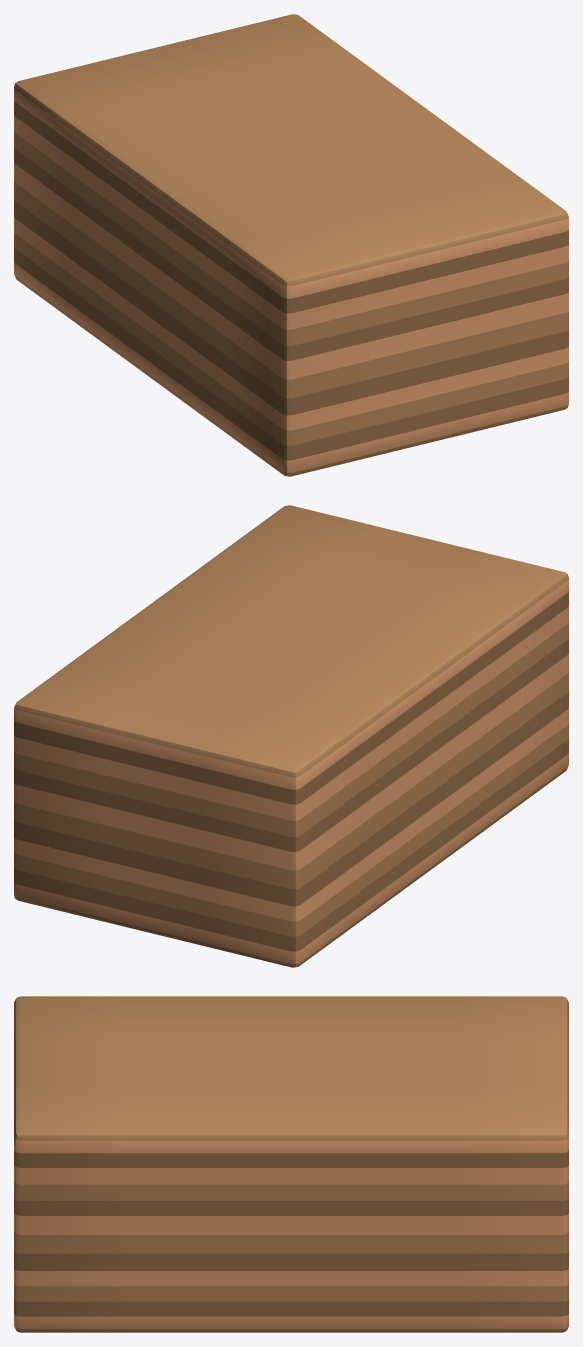
The model's file is Cube_Grass_SideBottom_Tall_001.fbx.
The picture shows the model from 3 angles, top to bottom: view 1: azimuth 30°, elevation 25°; view 2: azimuth 150°, elevation 25°; view 3: azimuth 270°, elevation 25°; orthographic projection.
Visible parts, largest first — view 1: Cube_Grass_SideBottom_Tall.001; view 2: Cube_Grass_SideBottom_Tall.001; view 3: Cube_Grass_SideBottom_Tall.001.
Part boxes in pixels (box(x1,y1,x2,y2)): Cube_Grass_SideBottom_Tall.001: box(14, 14, 568, 476); Cube_Grass_SideBottom_Tall.001: box(14, 505, 568, 967); Cube_Grass_SideBottom_Tall.001: box(14, 996, 568, 1332).
Bounding box in the file's own units: 600 × 400 × 1000.
